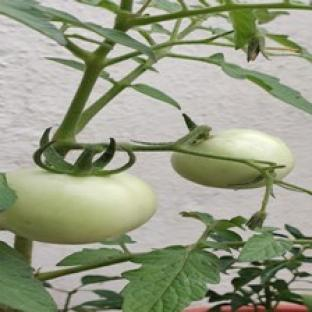Tomato: (0, 168, 155, 243), (184, 130, 293, 179)
